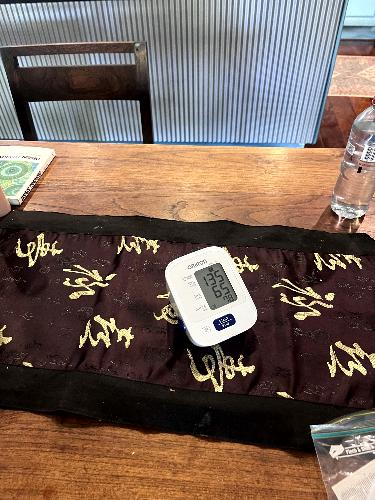bpm: (194, 259, 239, 311)
